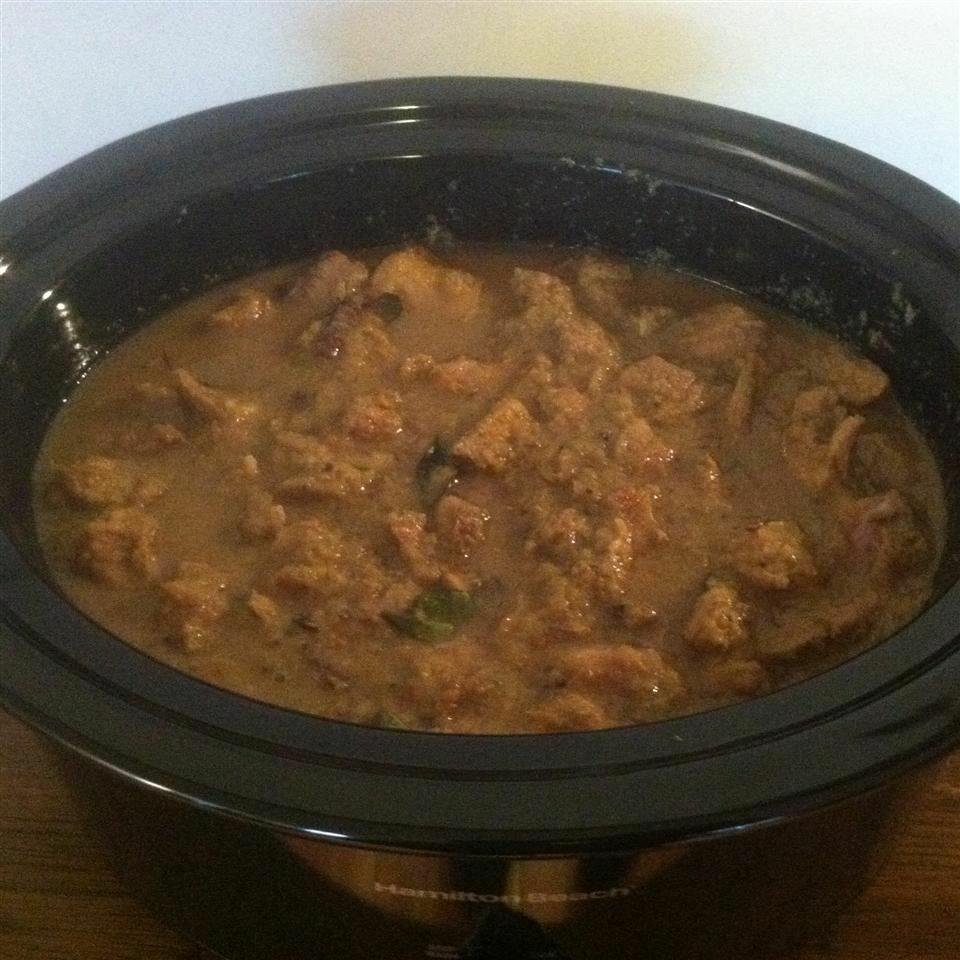MuttonCurry: (31, 232, 953, 729)
